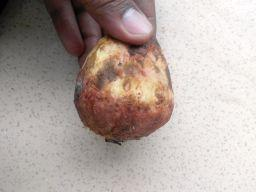guava: (71, 23, 178, 146)
